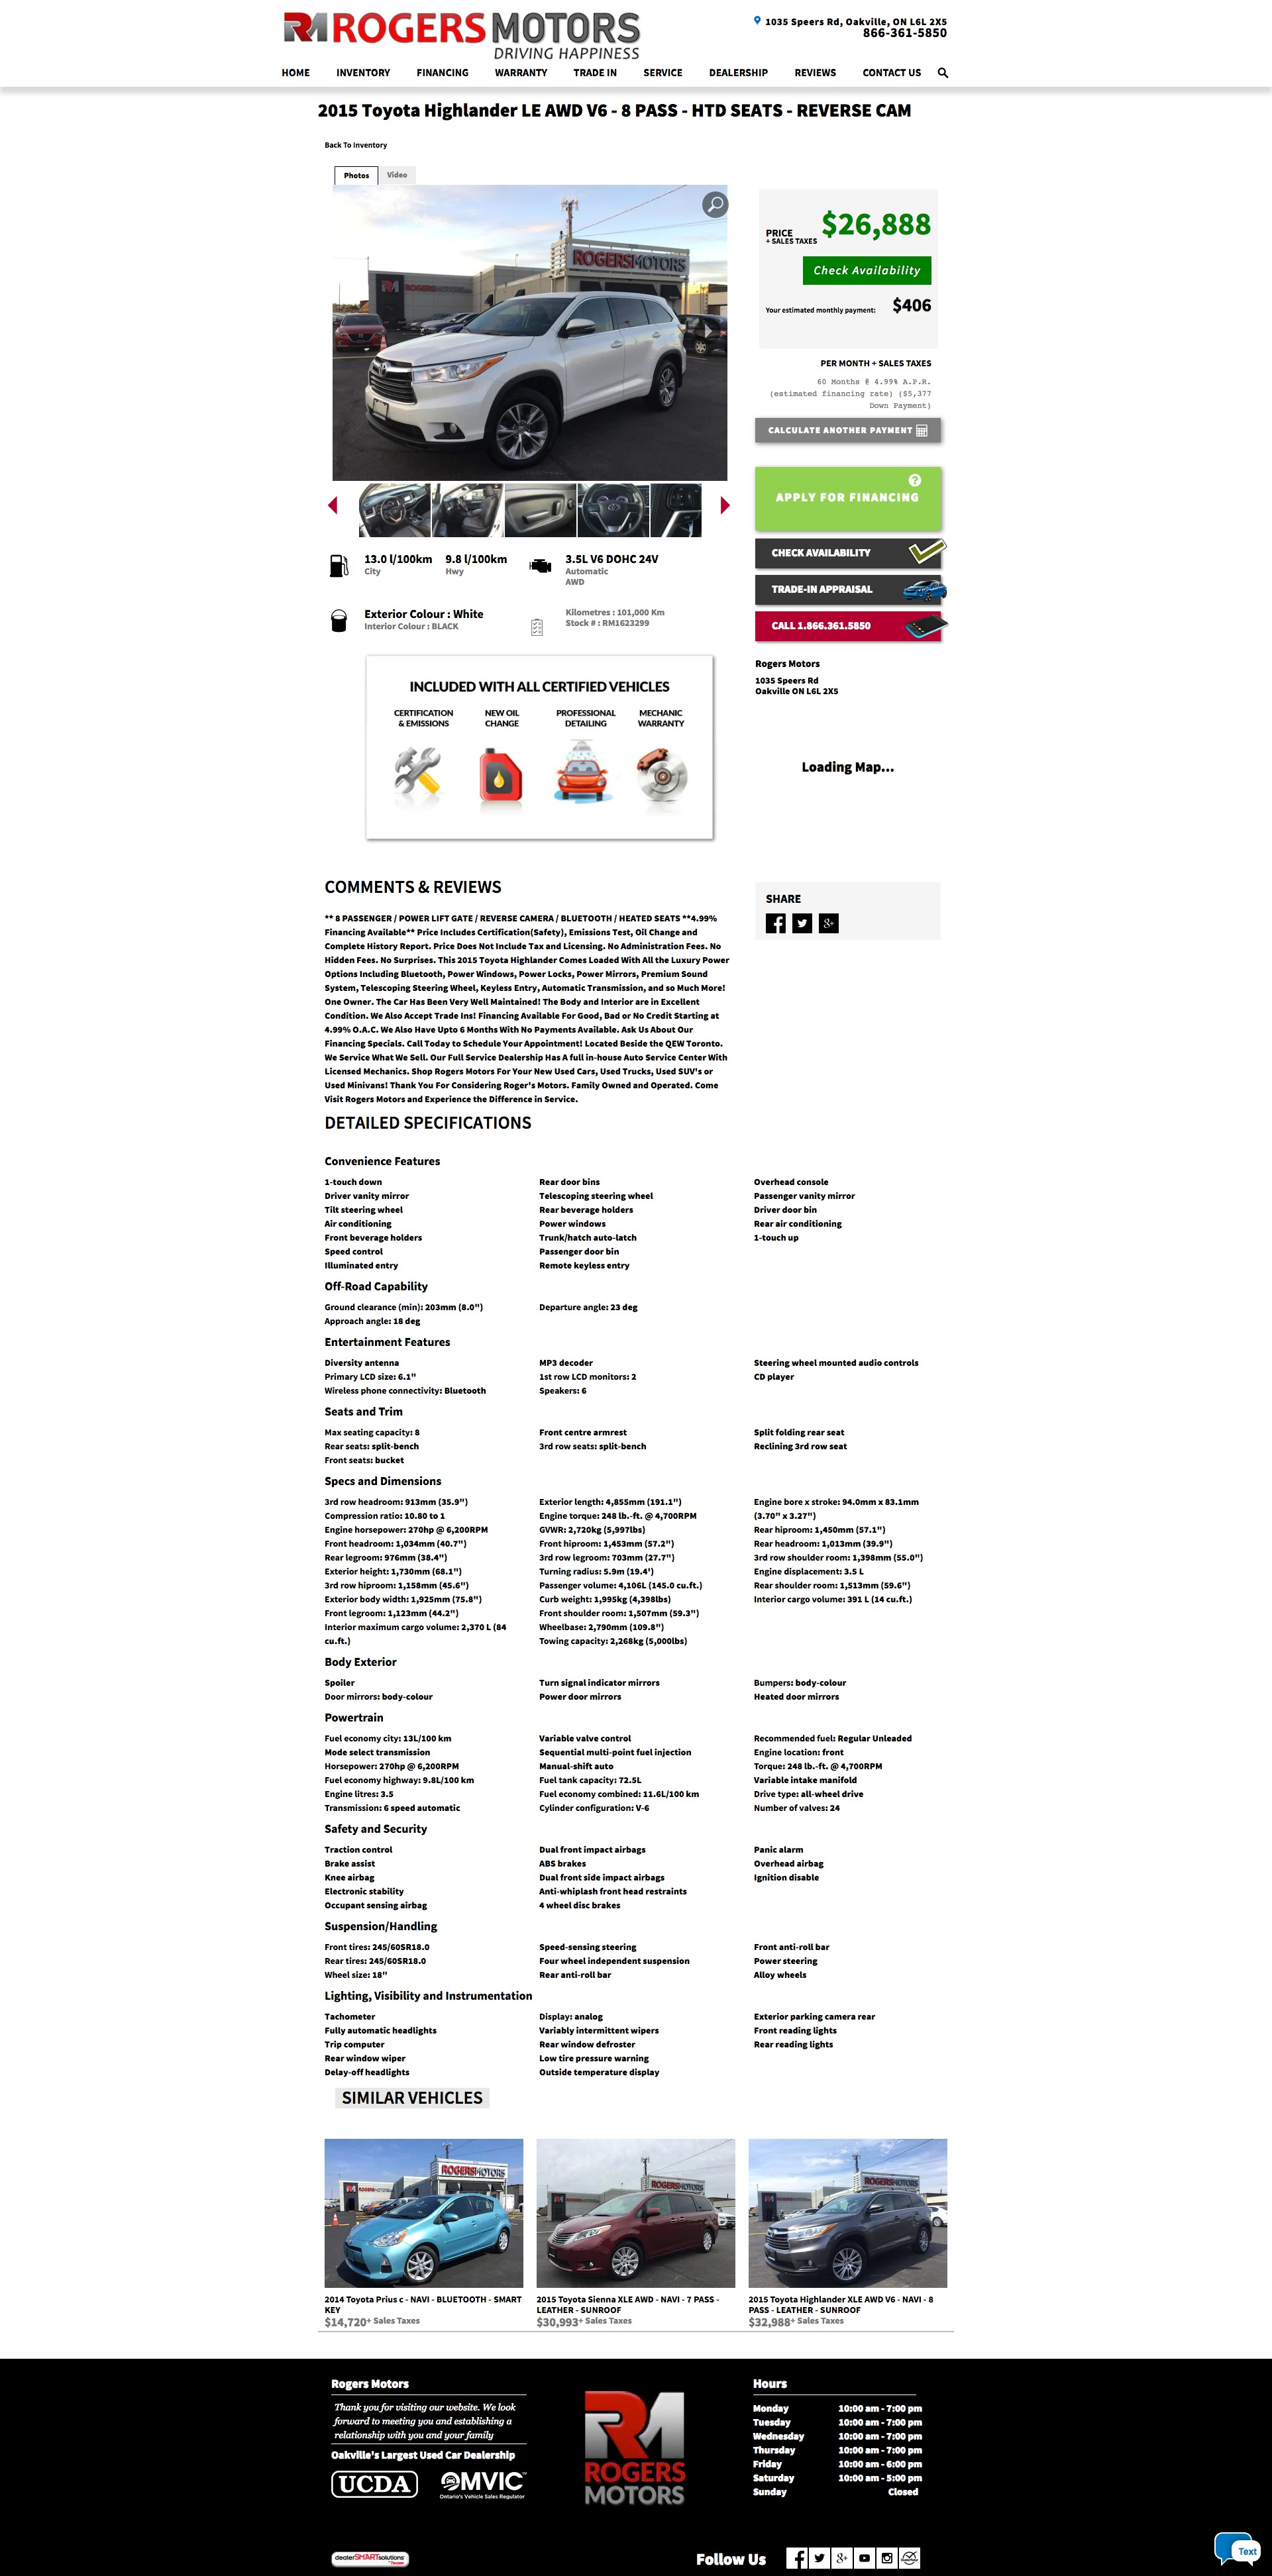car: (721, 496, 731, 516)
